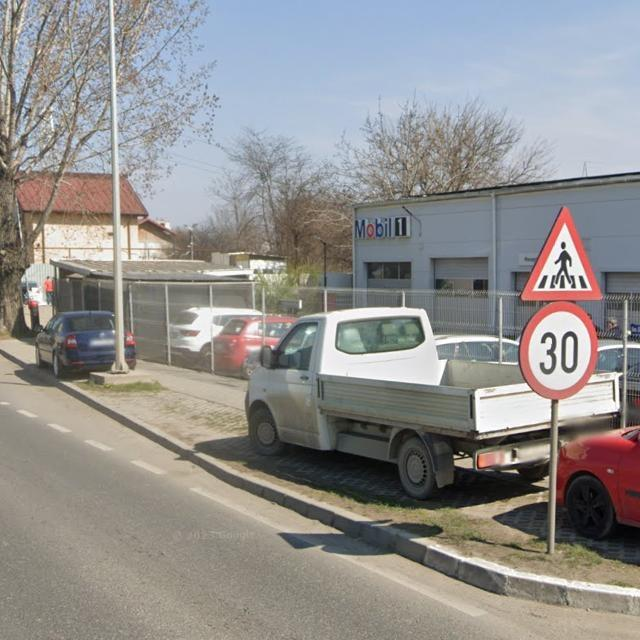forb_speed_over_30: (519, 304, 600, 400)
warn_crosswalk: (524, 207, 602, 304)
